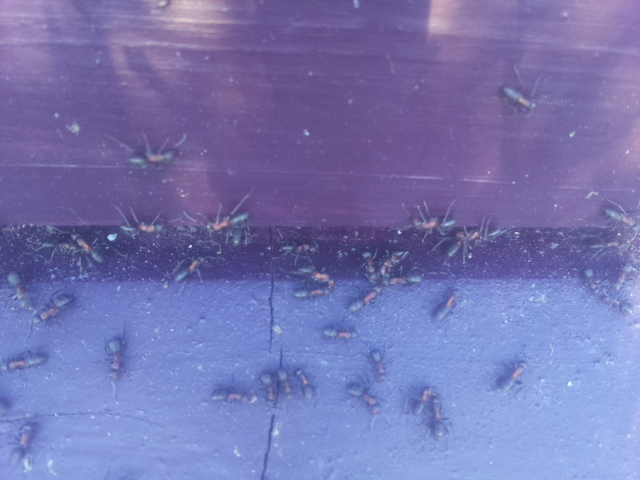ant: (345, 242, 407, 319), (0, 261, 49, 329), (254, 355, 299, 413), (31, 287, 78, 330), (55, 227, 105, 267), (285, 271, 342, 303), (492, 82, 543, 117), (6, 418, 39, 472), (343, 378, 384, 419), (416, 386, 448, 438), (197, 209, 257, 236), (400, 208, 462, 234), (120, 146, 180, 172), (429, 282, 466, 324), (4, 345, 52, 376), (602, 201, 637, 234), (493, 358, 527, 391), (174, 254, 206, 287), (103, 336, 129, 375), (293, 363, 316, 407), (366, 342, 386, 387), (275, 239, 322, 258)
